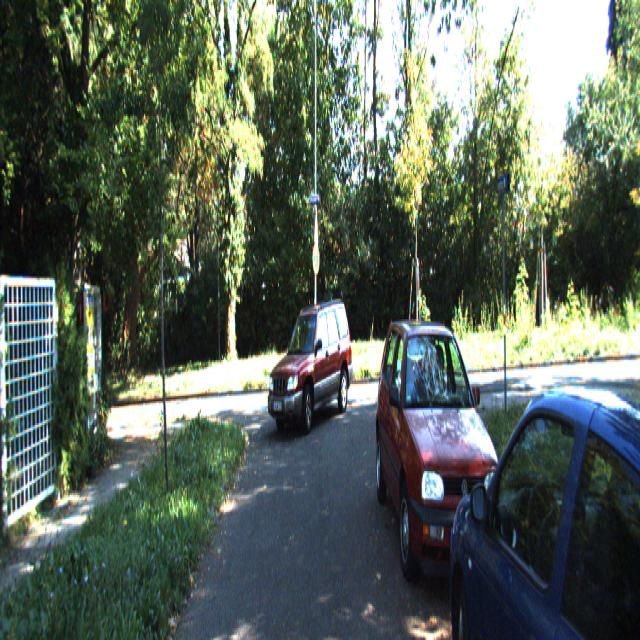Car: (440, 343, 640, 638), (375, 317, 515, 610), (267, 302, 353, 439)
